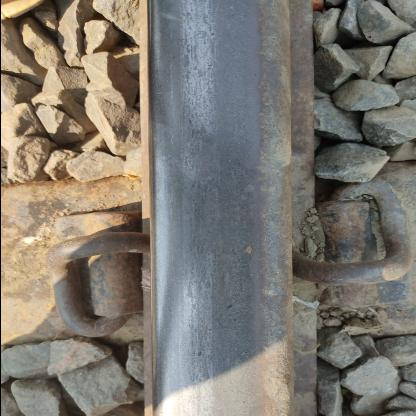Non Defective 1: (22, 198, 168, 358), (283, 159, 415, 320)
